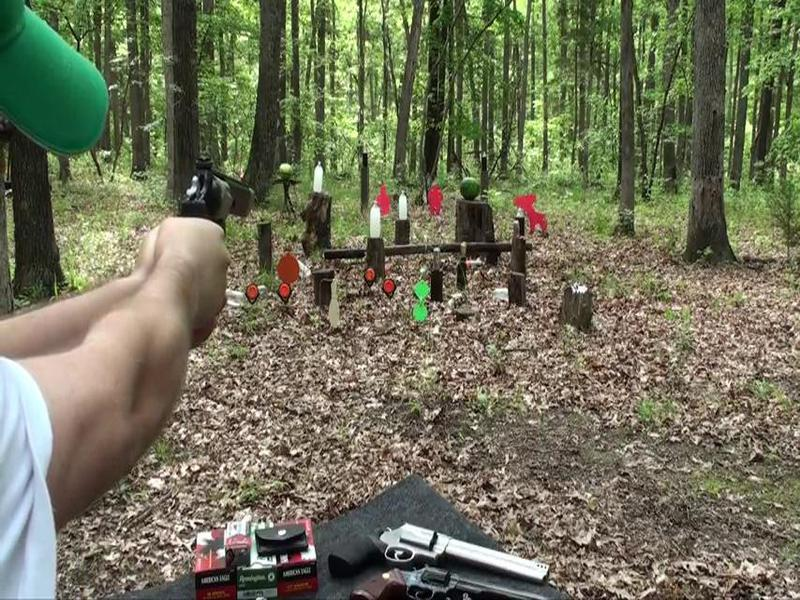Revolver: (164, 150, 257, 254)
